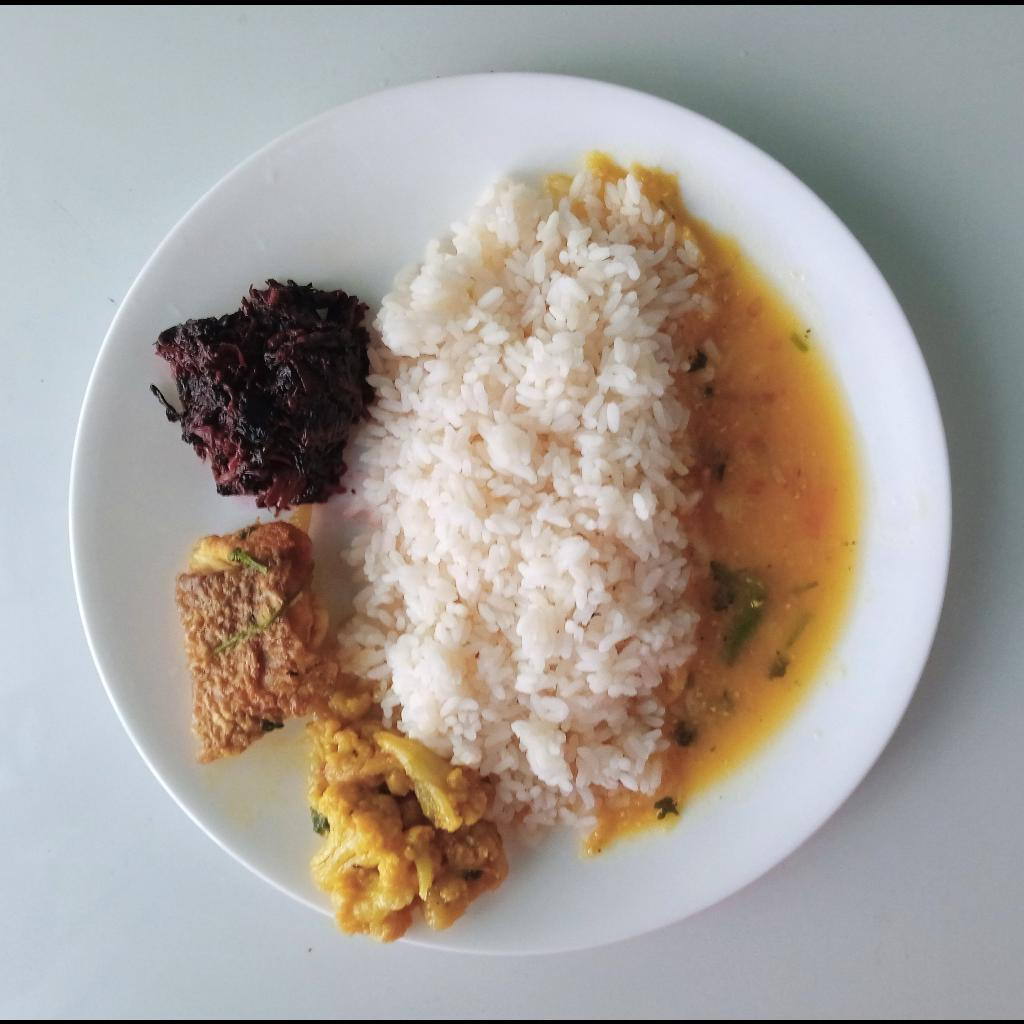cauliflower: (311, 734, 501, 936)
daal: (677, 221, 867, 802)
fish: (181, 524, 370, 763)
rice: (343, 169, 694, 842)
shak: (153, 273, 358, 501)
